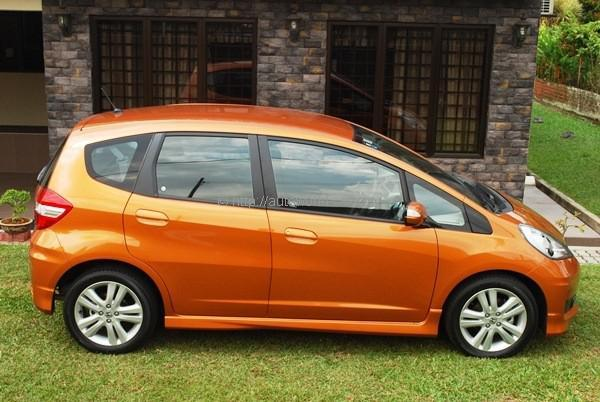Hatchback: (24, 92, 597, 368)
